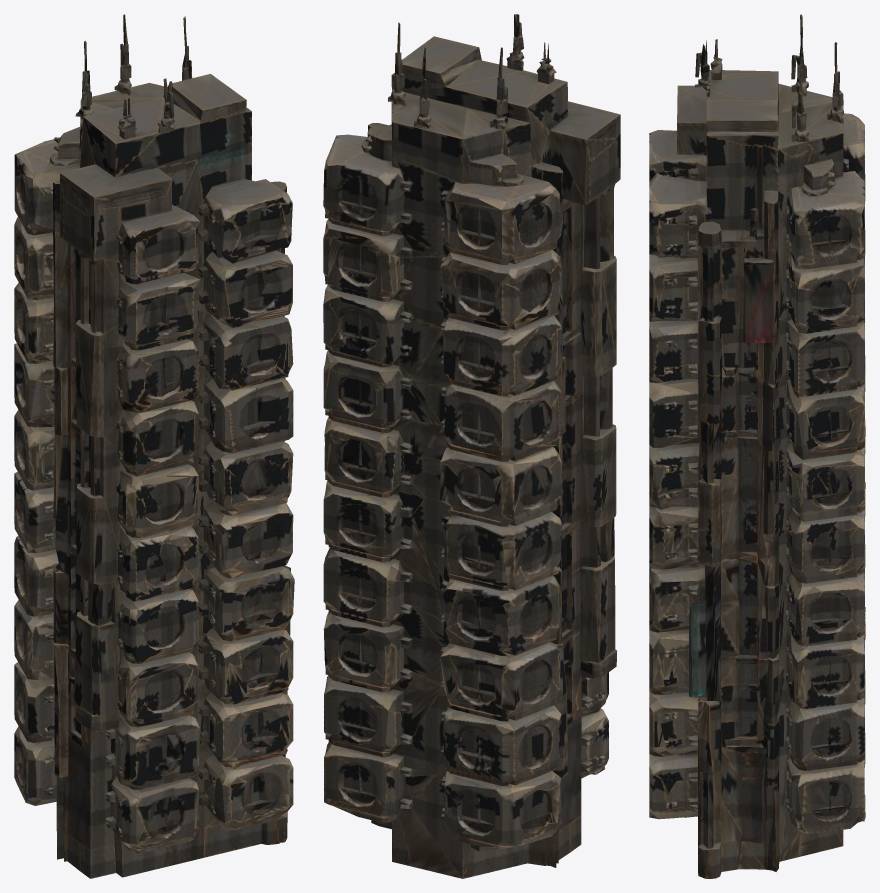
3 views of the same model, side by side, from view 1: azimuth 30°, elevation 25°; view 2: azimuth 150°, elevation 25°; view 3: azimuth 270°, elevation 25° (orthographic). The views are drawn at different scales.
Visible parts, largest first — view 1: b05; view 2: b05; view 3: b05.
Part boxes in pixels (<box>): b05: <box>14,14,294,878</box>; b05: <box>323,14,620,878</box>; b05: <box>649,14,865,878</box>.
Size of the model in its own units: 17.21 by 60 by 14.87.
1 material, 1 textured.
